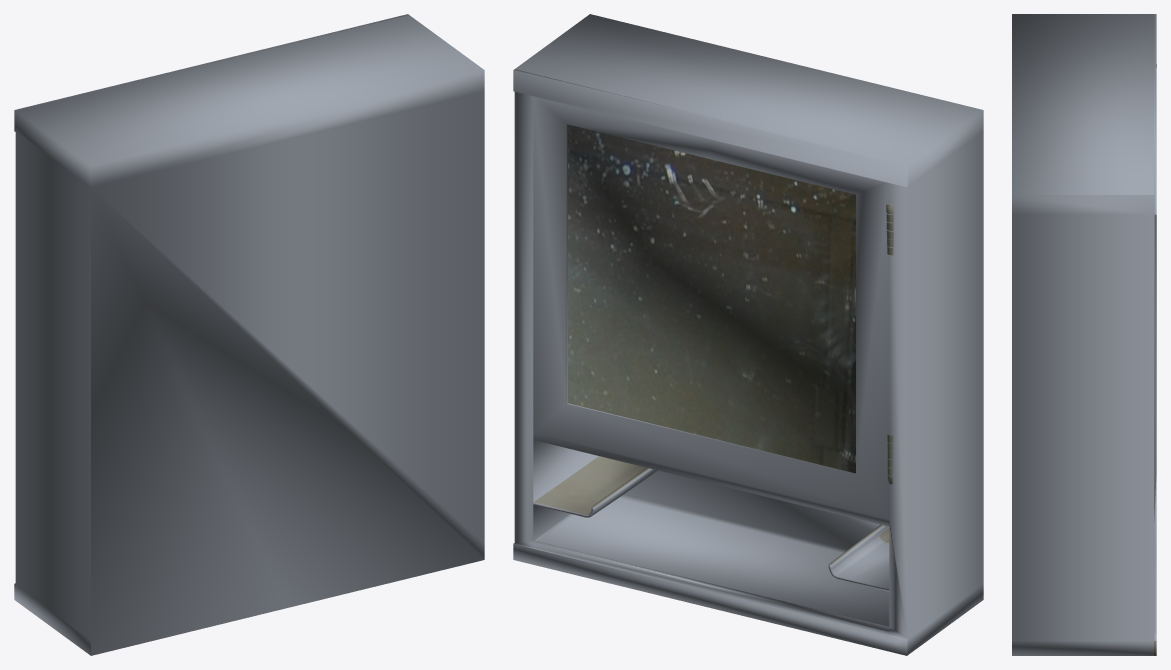
Rendered from mirror.obj.
The picture shows the model from 3 angles, left to right: view 1: azimuth 30°, elevation 25°; view 2: azimuth 150°, elevation 25°; view 3: azimuth 270°, elevation 25°; orthographic projection. The views are drawn at different scales.
Parts seen in each view (by area): view 1: mirror.obj; view 2: mirror.obj; view 3: mirror.obj.
Part boxes in pixels (left/top/right/bottom): mirror.obj: left=14, top=14, right=484, bottom=655; mirror.obj: left=513, top=14, right=983, bottom=655; mirror.obj: left=1012, top=14, right=1156, bottom=655.
Size of the model in its own units: 3.83 by 4.55 by 1.3.
